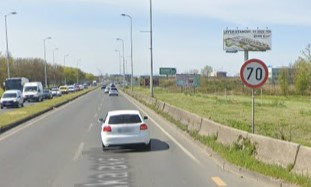Ograničenje brzine 70: (240, 59, 269, 89)
